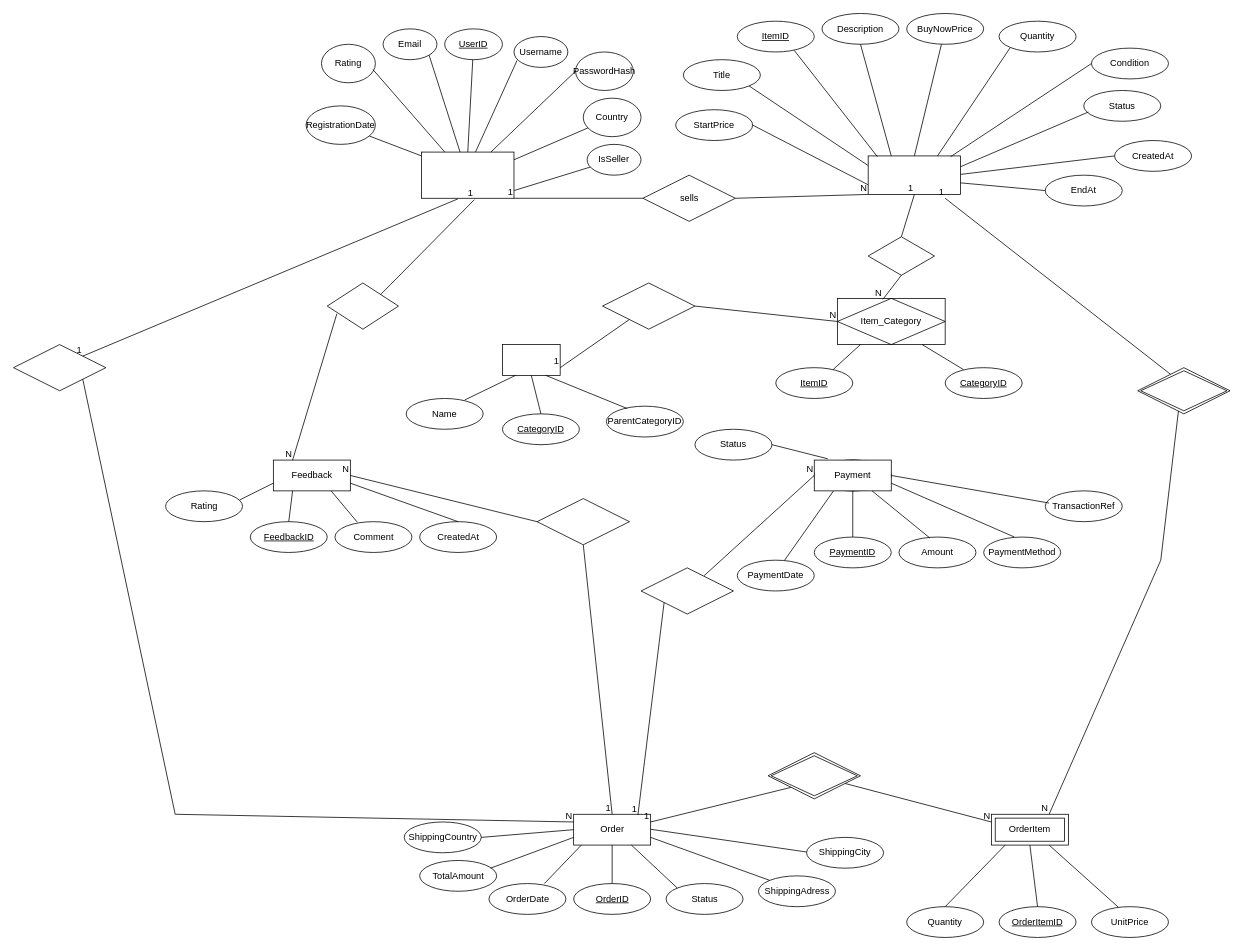
Some shapes in this 1244 by 951 pixel diagram are drawn without their labels. The shapes that lost their labels are listed below. From the top down, each one's centre as x and y in pixels, then its label:
At pixel 467 174: "User".
At pixel 914 174: "Item".
At pixel 901 255: "assigned_to".
At pixel 362 305: "writes".
At pixel 648 305: "belongs_to".
At pixel 59 367: "places".
At pixel 531 359: "Category".
At pixel 1183 390: "refers_to".
At pixel 582 521: "for".
At pixel 686 590: "paid_by".
At pixel 813 775: "contains".
